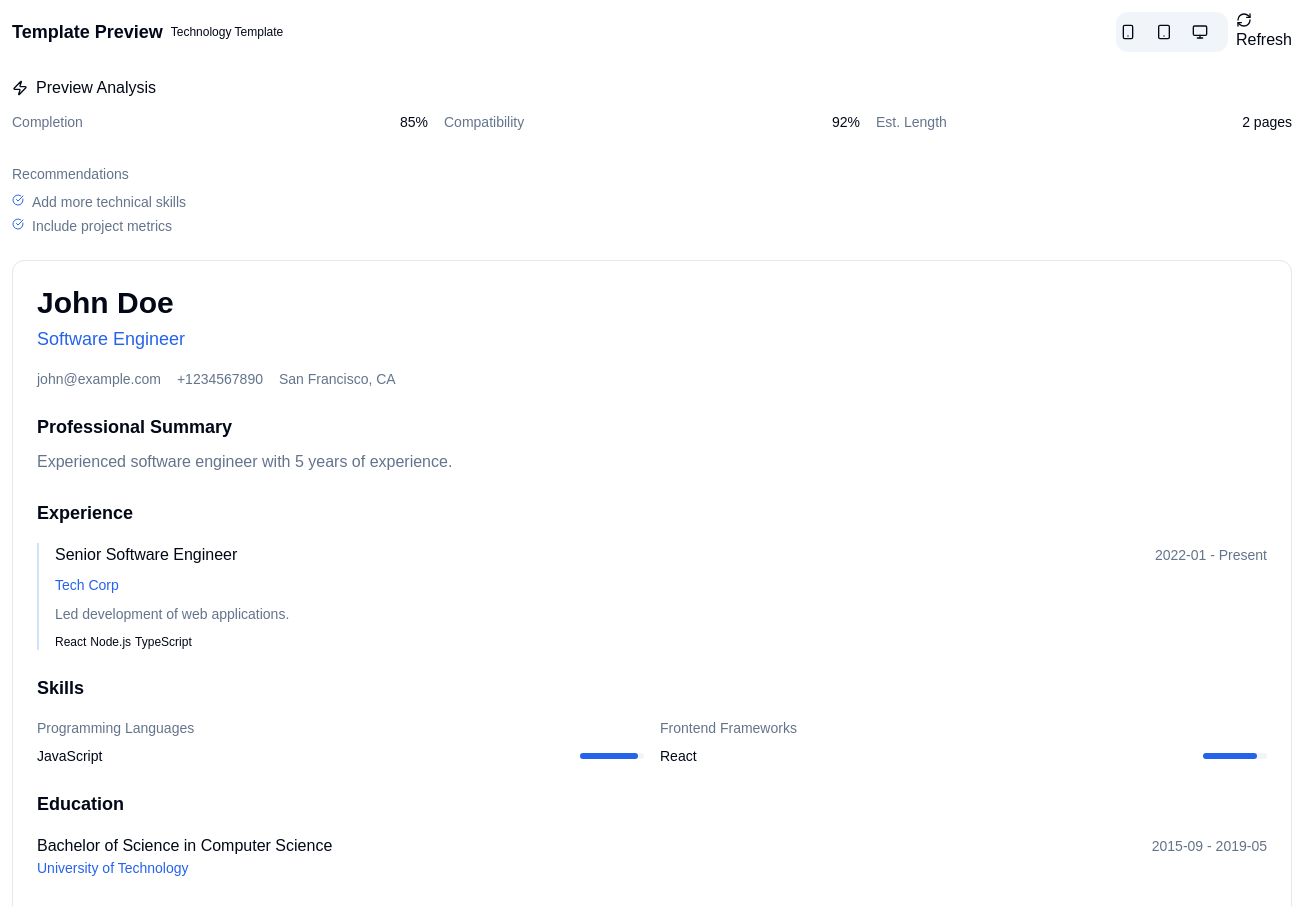
Test: TemplatePreview › interactions › should change viewport when viewport button is clicked
Click the button titled "Mobile". click: x=1136, y=32
box: 1120,16 -> 1152,48
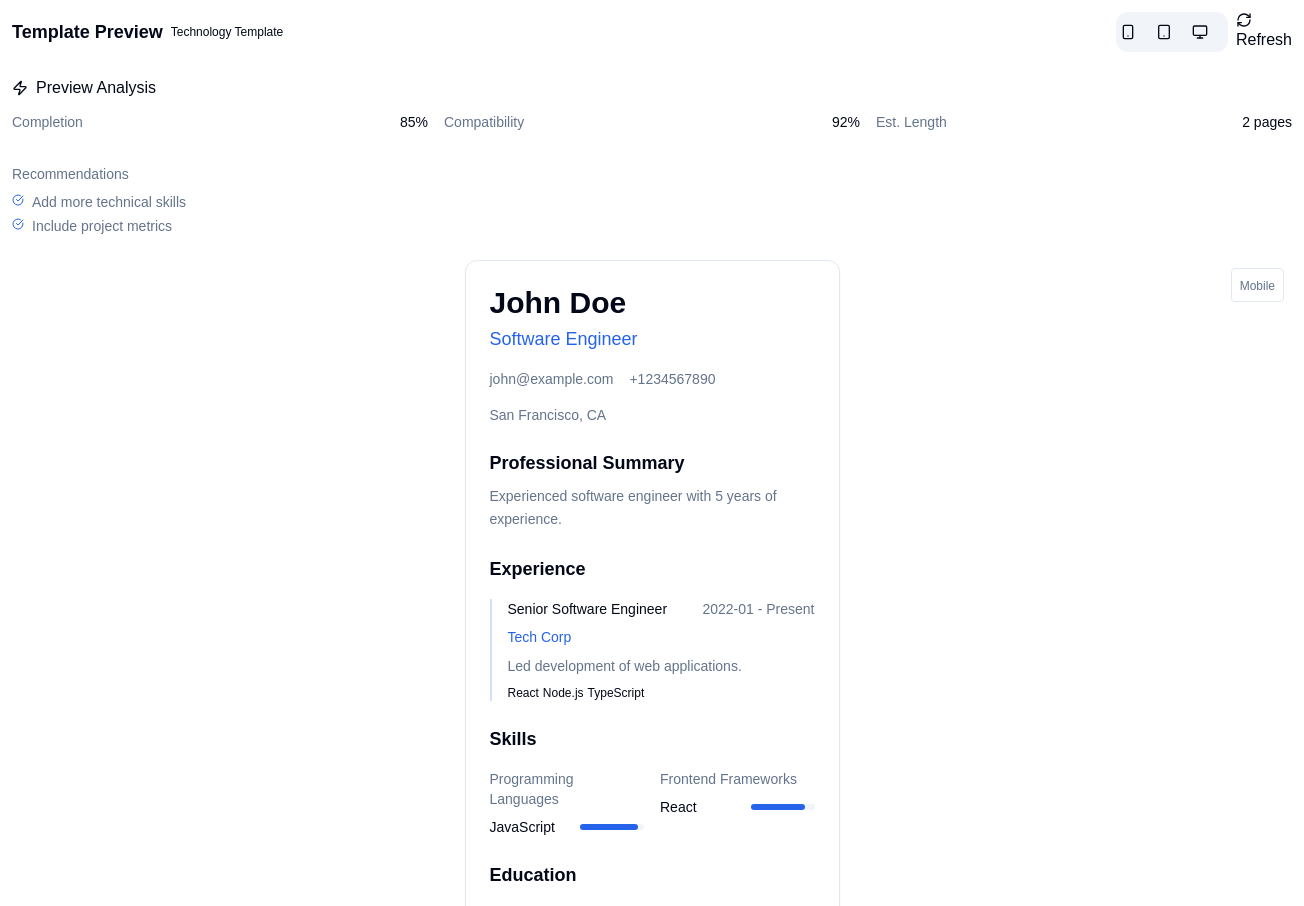
Result: the text "Mobile" is shown at 1240,279 -> 1275,293
